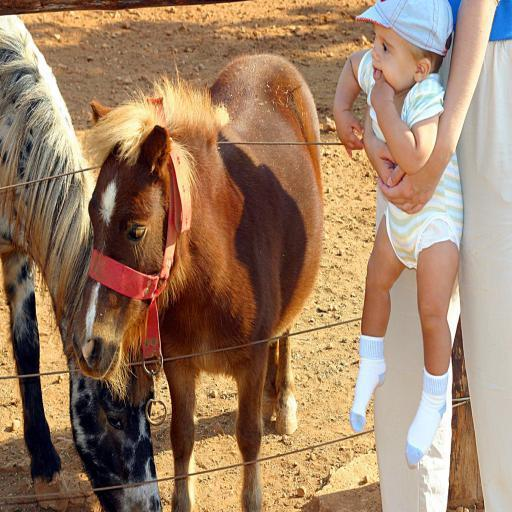horse: (62, 56, 325, 512), (0, 12, 162, 512)
